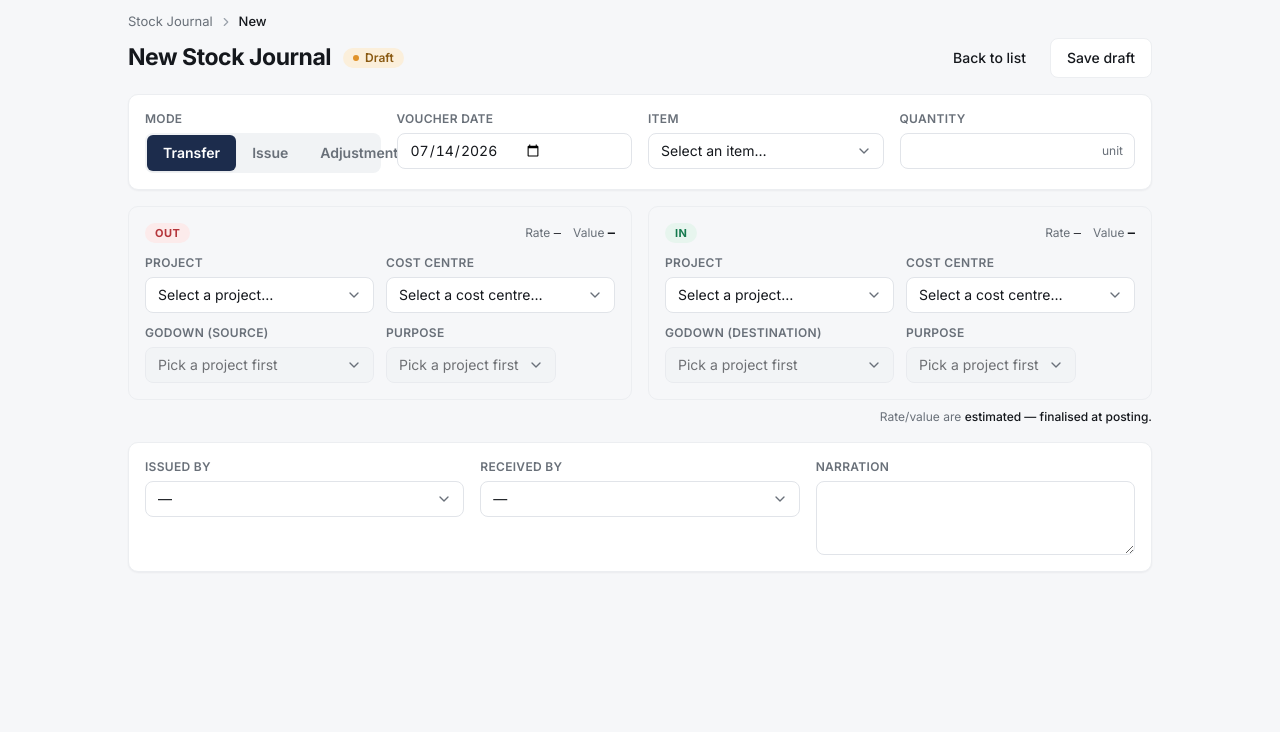
Test: StockJournalEditor — validation (spec §7/§8) › blocks Save with inline messages when required fields are empty
The width and height of the screenshot is (1280, 732).
Check: the heading "New Stock Journal" is shown, box 128,40 -> 331,75
Click the button with test id "sj-save". click: [1101, 58]
box: 1050,38 -> 1152,78
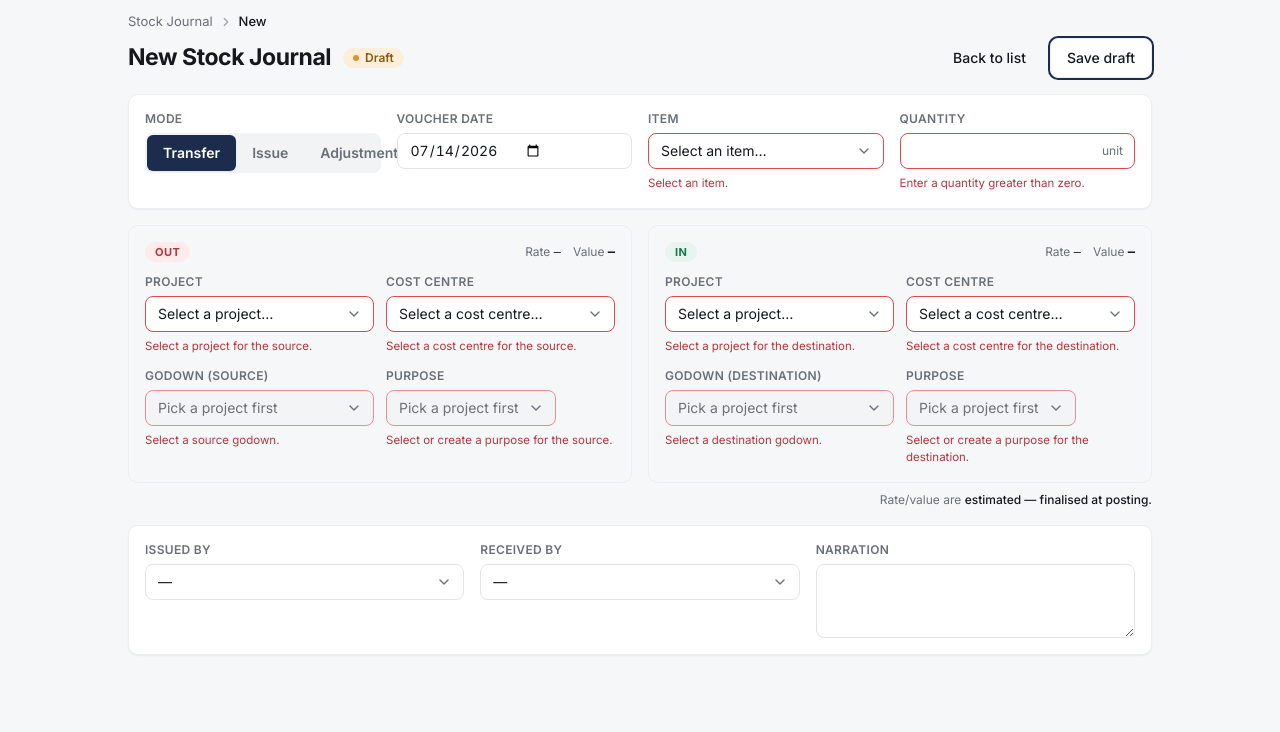
Check: the text "Select an item." is shown, box 648,176 -> 728,190
Check: the text "Enter a quantity greater than zero." is shown, box 900,176 -> 1085,190
